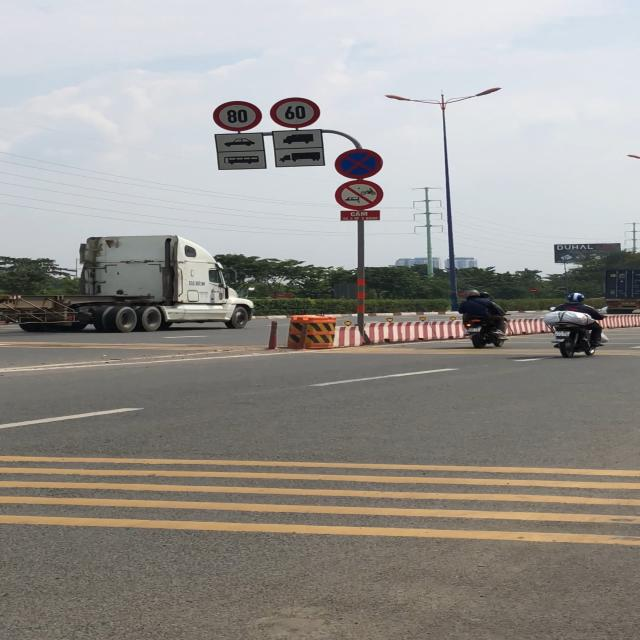Bien bao cam dung xe va do xe: (333, 148, 387, 179)
Bien bao toc do toi da cho phep: (211, 100, 265, 133), (270, 97, 320, 128)
